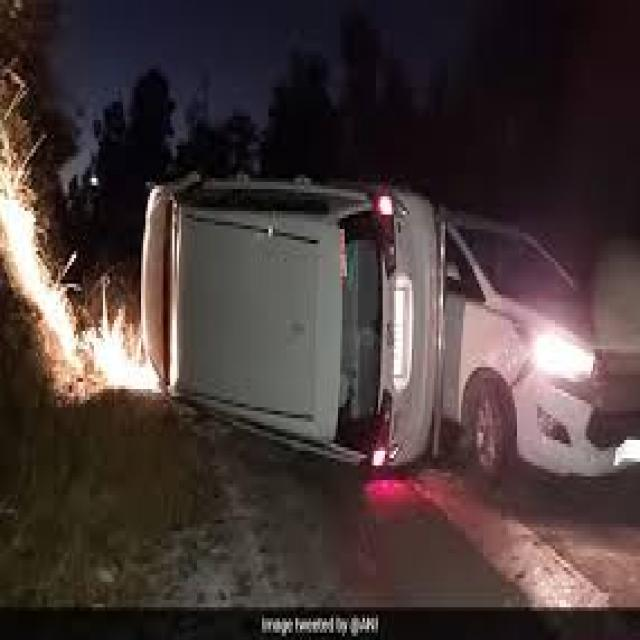accident: (126, 159, 445, 498)
